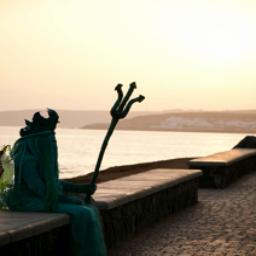Cuckoo: (0, 146, 14, 227)
